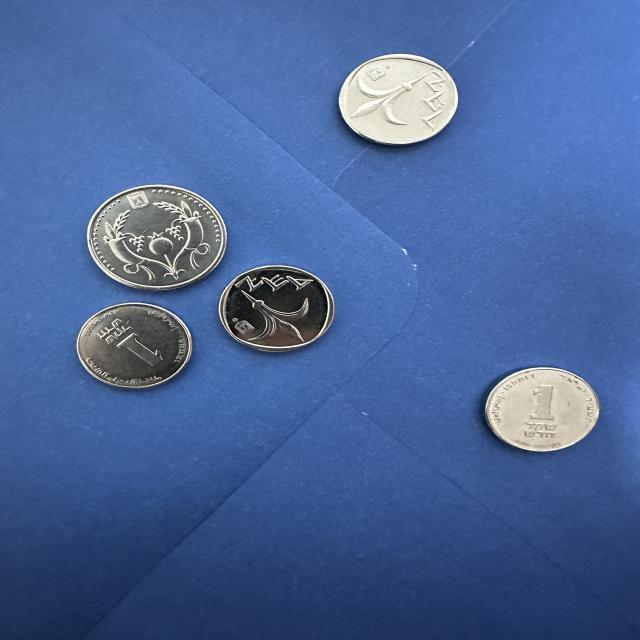1-shekel: (336, 52, 461, 148), (75, 298, 197, 394), (483, 364, 604, 455), (217, 264, 338, 352)
2-shekel: (88, 183, 228, 294)
